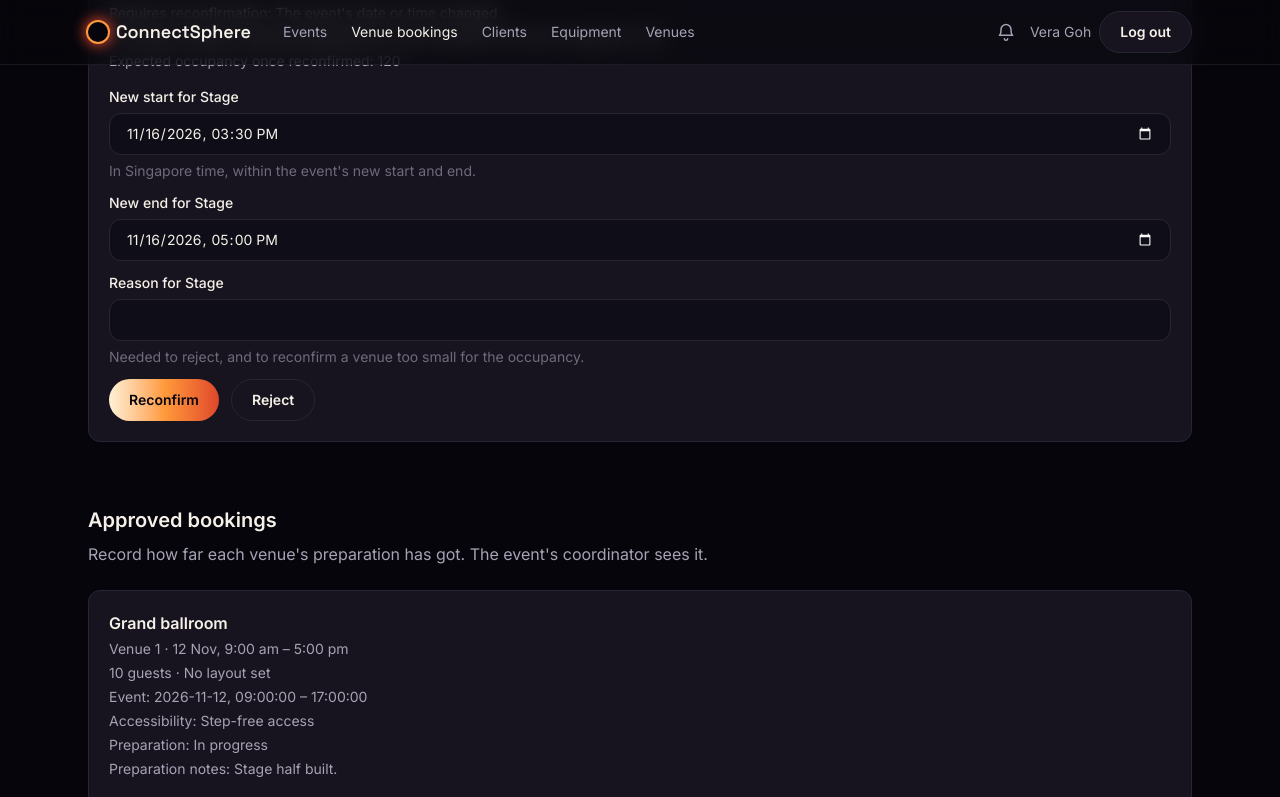
SCRUM-59 flagged bookings on the venue booking page › shows the rejection's own error, not the reconfirmation's before it
(page scrolled)
Step 1. Click the button with aria-label "Reconfirm Stage" → (164, 400), box [109,379,219,421]
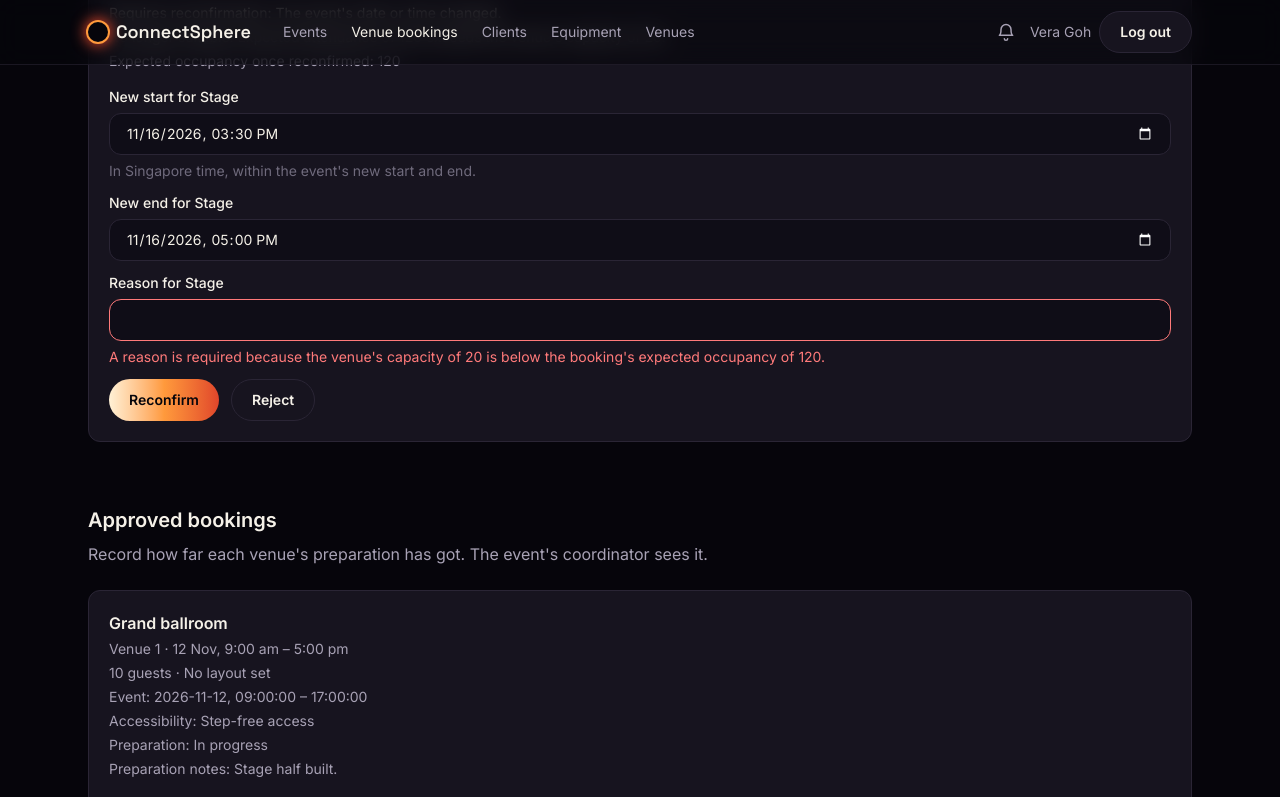
Result: the list item "A reason is required because the venue's capacity of 20 is below the booking's expected occupancy of 120." is shown at [109,348,825,365]
Step 2. Click the button with aria-label "Reject Stage" → (273, 400), box [231,379,315,421]
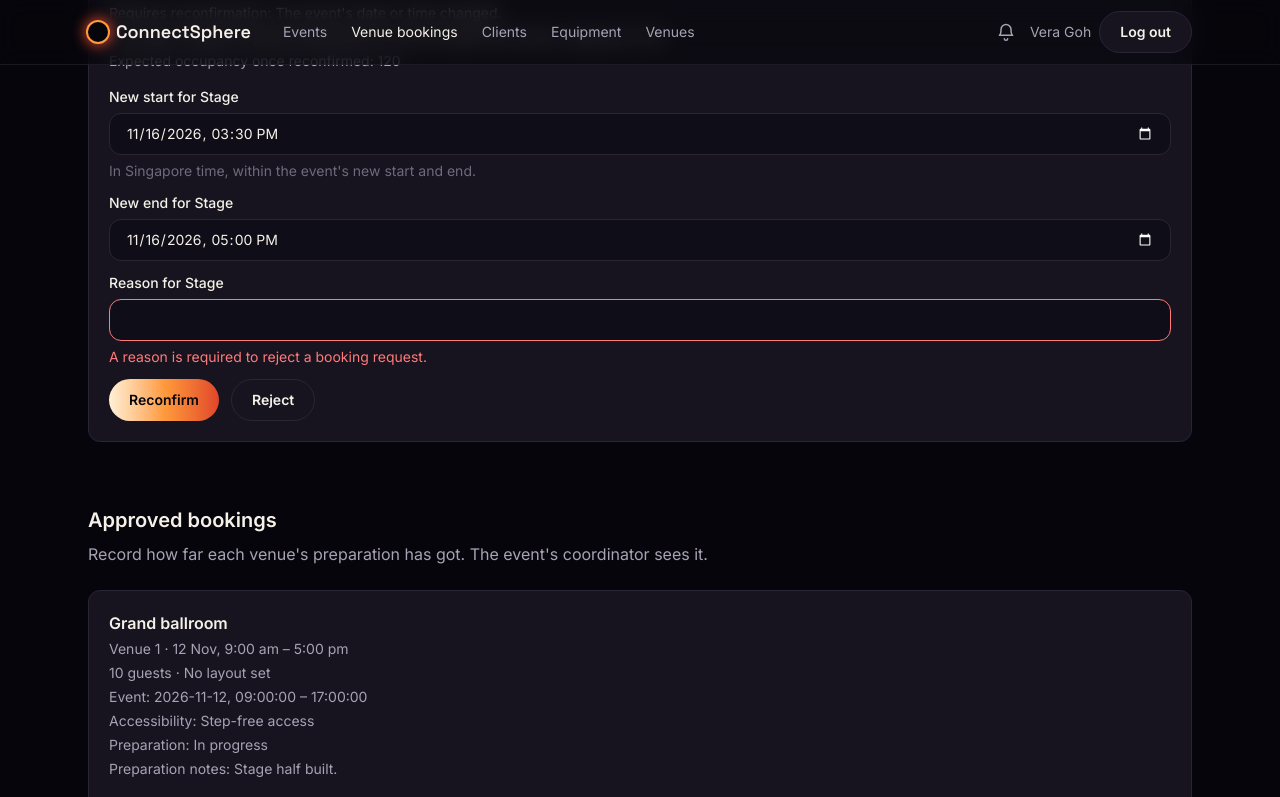
Result: the list item "A reason is required to reject a booking request." is shown at [109,348,427,365]
Result: the list item "A reason is required because the venue's capacity of 20 is below the booking's expected occupancy of 120." is gone
